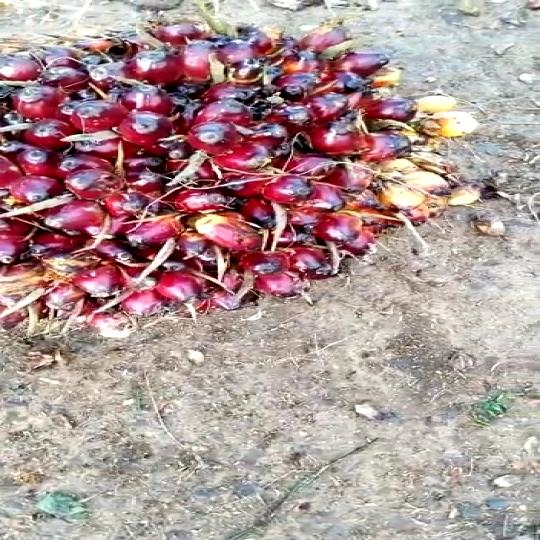kurang masak: (0, 25, 477, 350)
